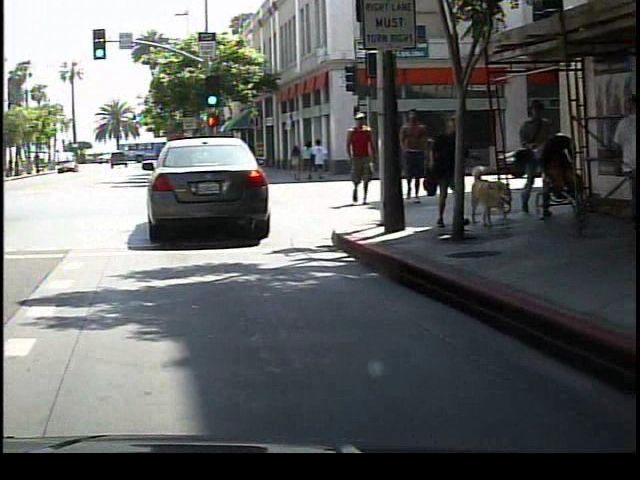person: (341, 109, 382, 211), (399, 104, 437, 212)
